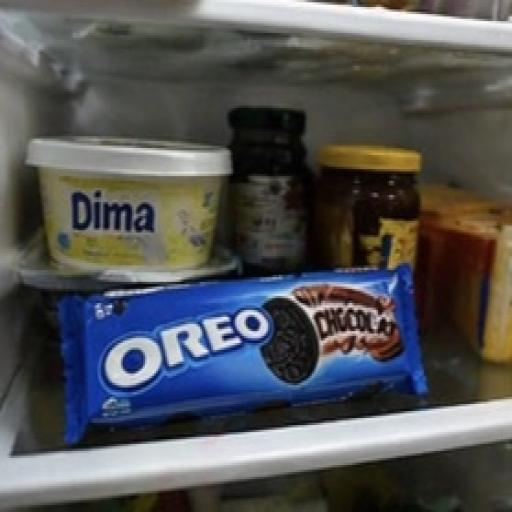oreo: (36, 209, 448, 446)
